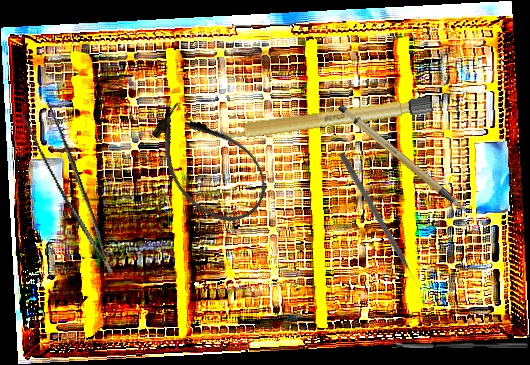Cannula: (134, 90, 282, 239)
Pusher: (337, 151, 422, 291)
Scalpel Handle: (335, 89, 469, 231), (210, 95, 436, 144)
Surgical Spoon: (392, 342, 528, 348)
Tissue Forceps: (18, 94, 114, 284)
